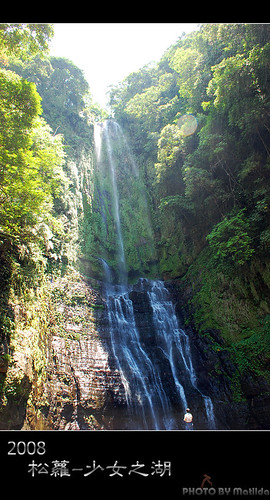wufengciWaterfall: (49, 106, 227, 426)
